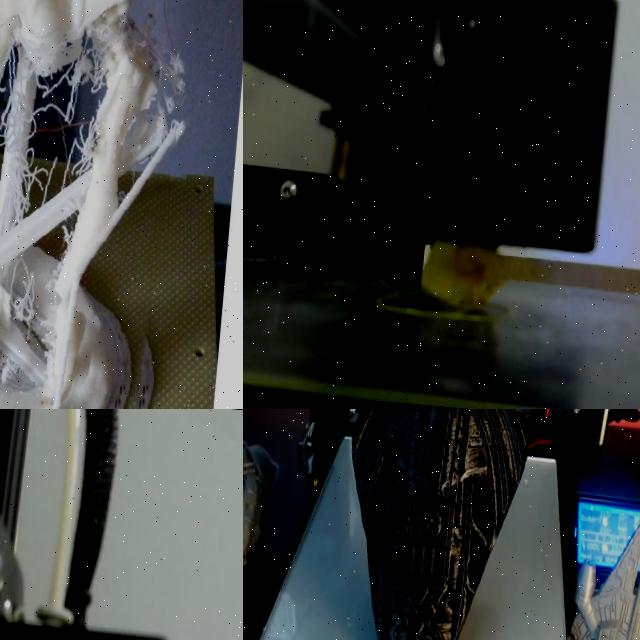spaghetti: (0, 13, 179, 409), (124, 5, 207, 214), (13, 68, 114, 220), (0, 242, 60, 366), (55, 217, 91, 406), (0, 2, 36, 162), (421, 240, 504, 306), (77, 3, 142, 82)
